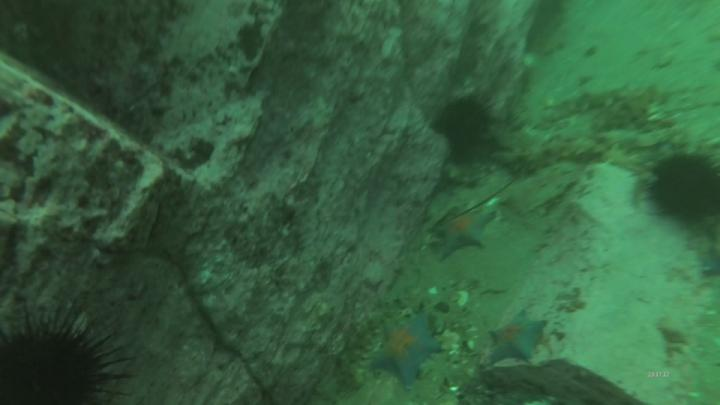echinus: (1, 311, 143, 405), (639, 145, 720, 231), (431, 90, 496, 170)
holothurian: (512, 132, 608, 166), (536, 82, 631, 116)
starfish: (368, 310, 447, 392), (418, 206, 501, 262), (479, 306, 550, 371)
